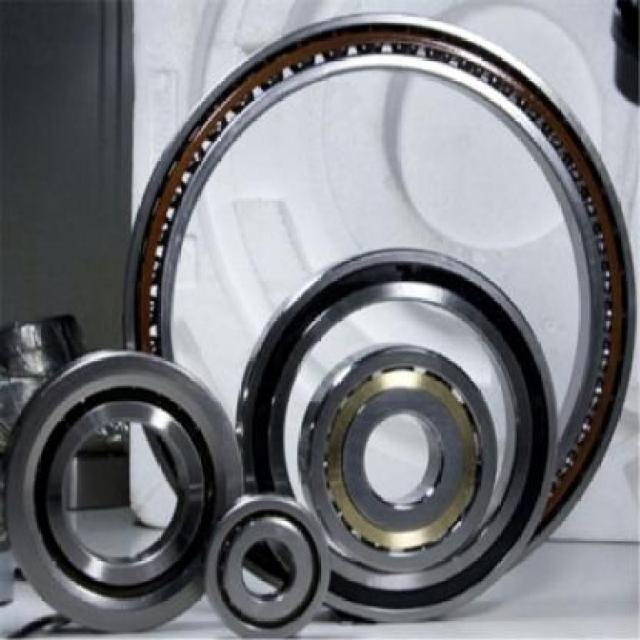Bearing: (119, 14, 634, 572), (238, 246, 554, 626), (0, 346, 248, 637), (296, 338, 500, 568), (209, 491, 333, 640)
